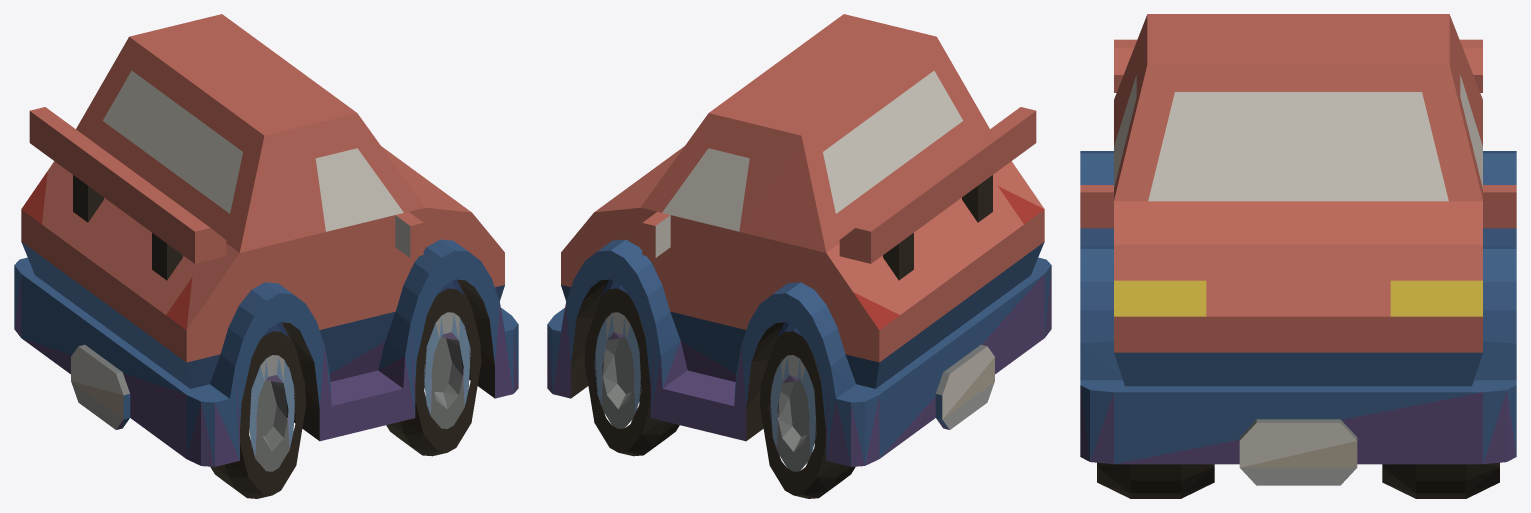
Rendered from sedan-sports.glb.
3 renders of one model, left to right at view 1: azimuth 30°, elevation 25°; view 2: azimuth 150°, elevation 25°; view 3: azimuth 270°, elevation 25°, orthographic. The views are drawn at different scales.
Bounding box in the file's own units: 1 × 1 × 1.
